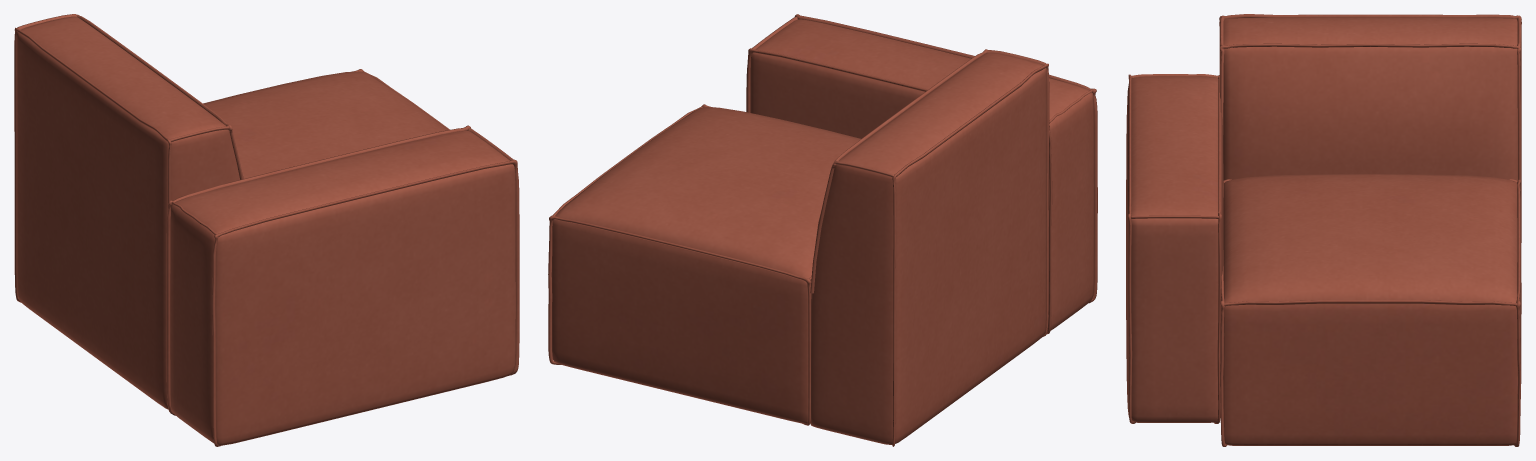
The model's file is cornerLeft.glb.
3 renders of one model, left to right at view 1: azimuth 30°, elevation 25°; view 2: azimuth 150°, elevation 25°; view 3: azimuth 270°, elevation 25°, orthographic. The views are drawn at different scales.
Parts seen in each view (by area): view 1: 0_Object019.002, 0_Object017.002, 0_Object018.002, Object008.001_Object008.001, Object016.001_Object016.001; view 2: 0_Object017.002, 0_Object018.002, 0_Object019.002, Object016.001_Object016.001, Object008.001_Object008.001, 0_Group008.002; view 3: 0_Object018.002, 0_Object017.002, 0_Object019.002, Object016.001_Object016.001, 0_Group008.002, Object008.001_Object008.001.
Part boxes in pixels (x1,y1,x2,y2): 0_Object019.002: (170,130,515,445); 0_Object017.002: (16,16,243,409); 0_Object018.002: (203,71,448,178); Object008.001_Object008.001: (166,125,519,446); Object016.001_Object016.001: (14,14,243,302); 0_Object017.002: (810,52,1047,444); 0_Object018.002: (551,107,860,423); 0_Object019.002: (750,19,1094,330); Object016.001_Object016.001: (810,49,1049,446); Object008.001_Object008.001: (746,14,1097,334); 0_Group008.002: (548,104,811,425); 0_Object018.002: (1220,173,1521,445); 0_Object017.002: (1219,17,1521,244); 0_Object019.002: (1126,76,1223,422); Object016.001_Object016.001: (1219,14,1521,190); 0_Group008.002: (1220,179,1521,446); Object008.001_Object008.001: (1128,74,1221,423).
Size of the model in its own units: 0.9298 by 0.7106 by 0.9305.
Materials: 1 (1 with a texture image).
